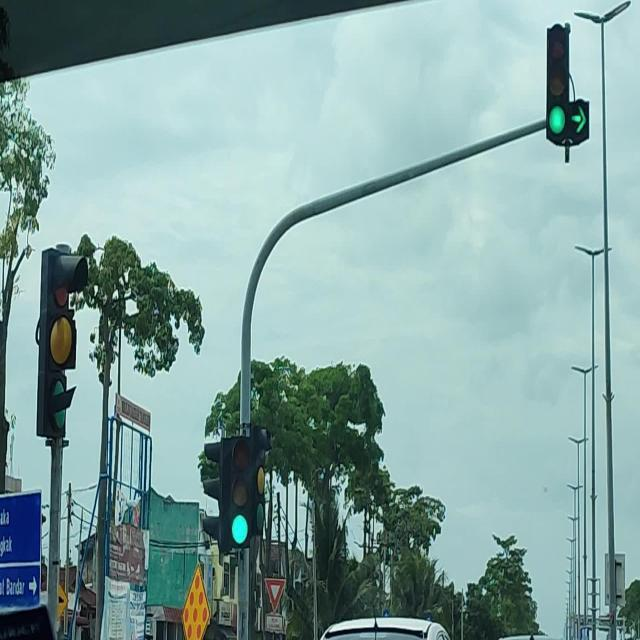green_light: (546, 23, 570, 142), (228, 434, 252, 548), (569, 24, 589, 144)
